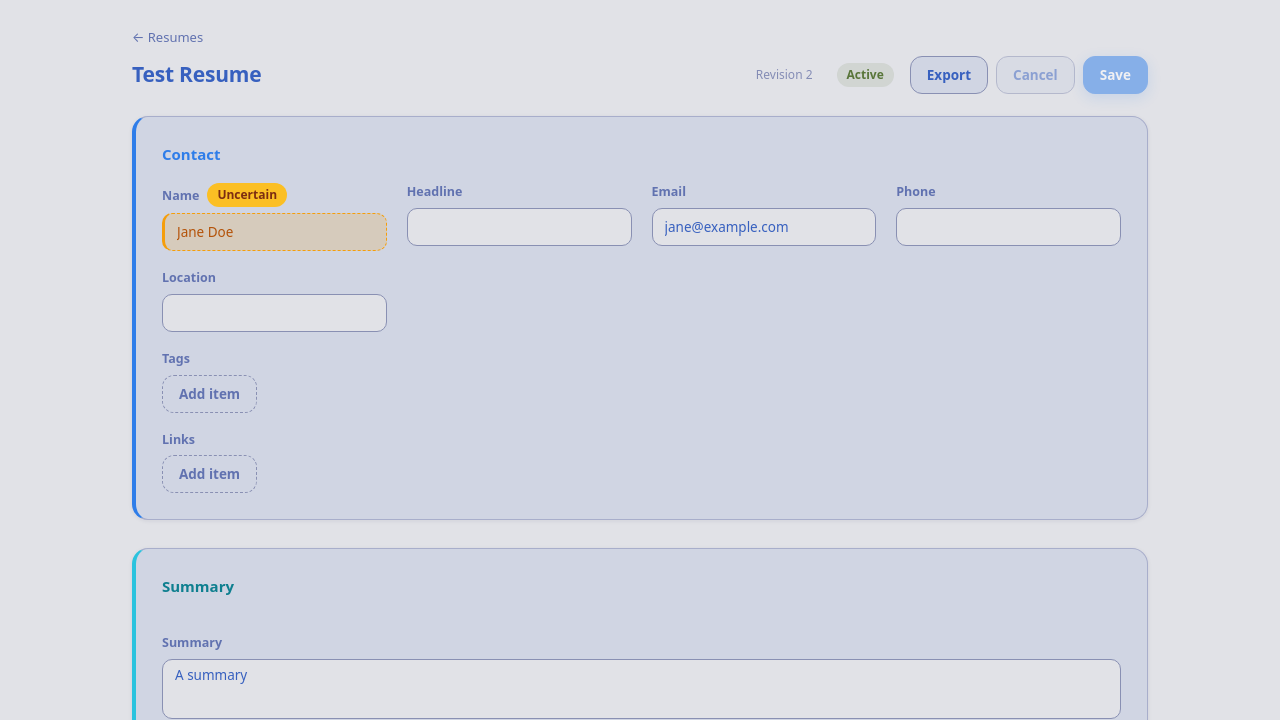
Test: ResumeEditor › restores original values on Cancel
Replace the text in the field named "Name (unverified)" with "Jane Smith" at (274, 232), box [162,213,387,251]
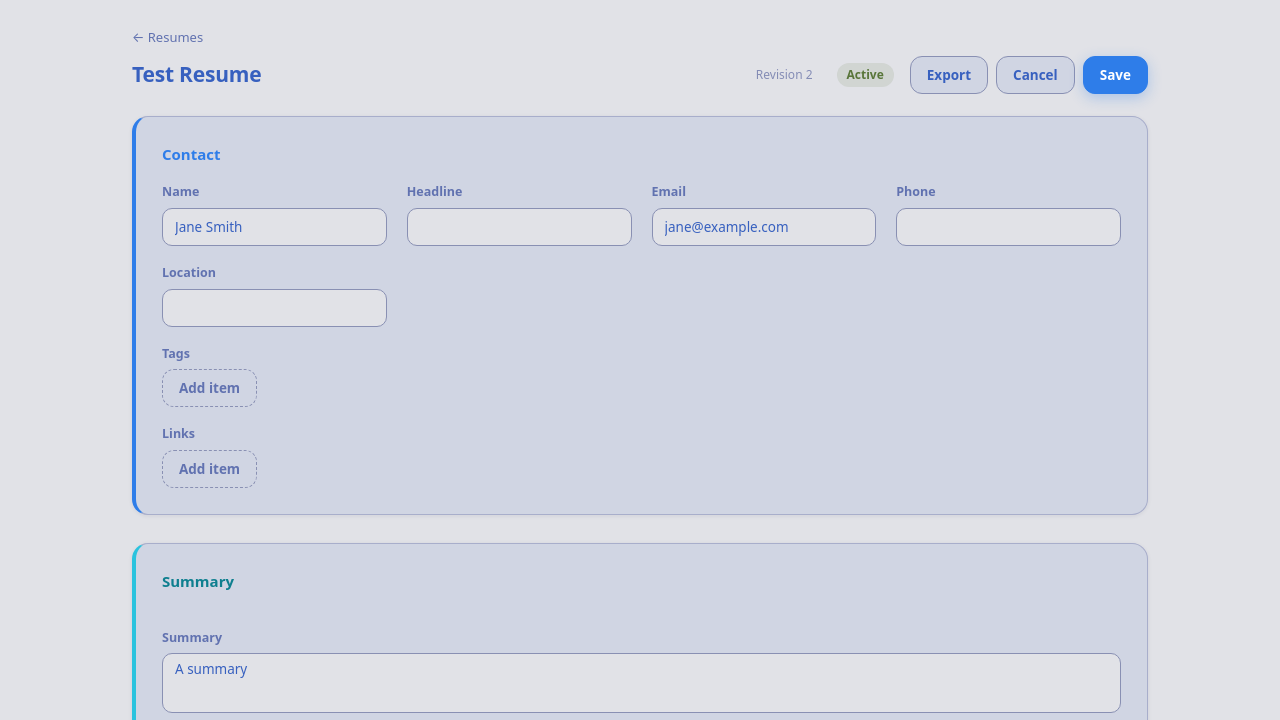
Click the button "Cancel" at (1035, 74), box [996,56,1075,94]
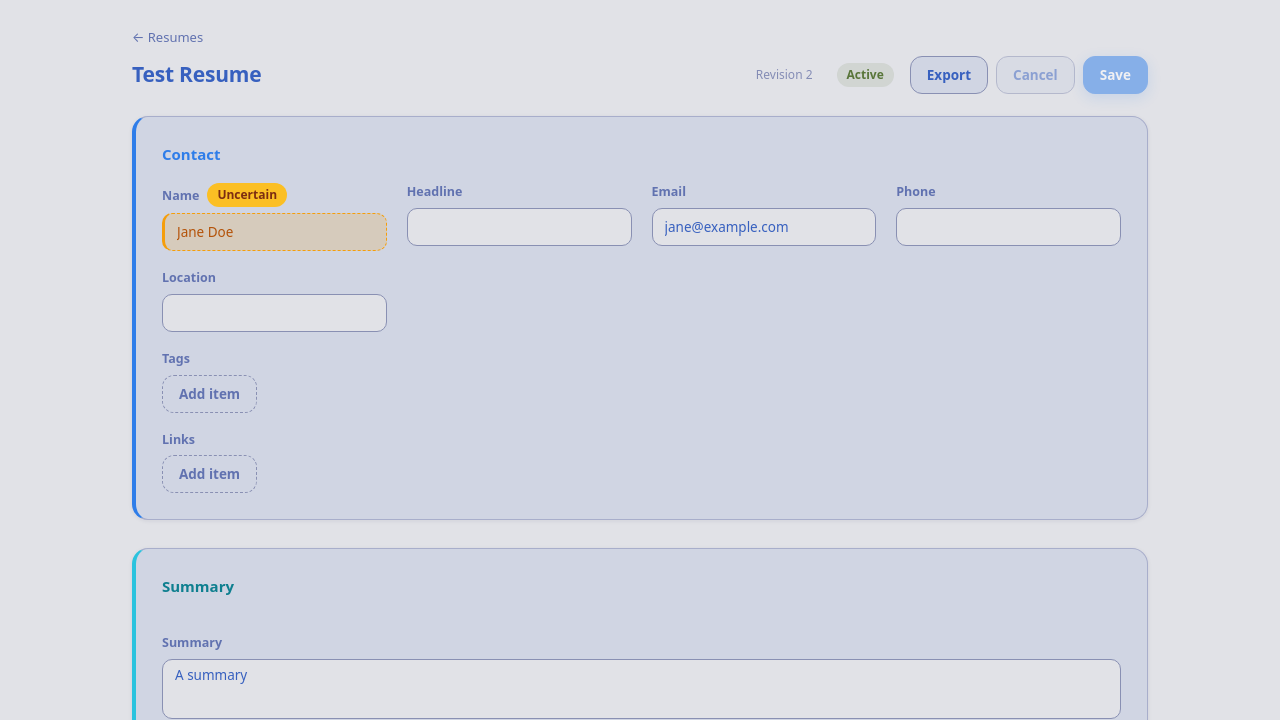
Expected: the field named "Name (unverified)" holds "Jane Doe", [162,213,387,251]
